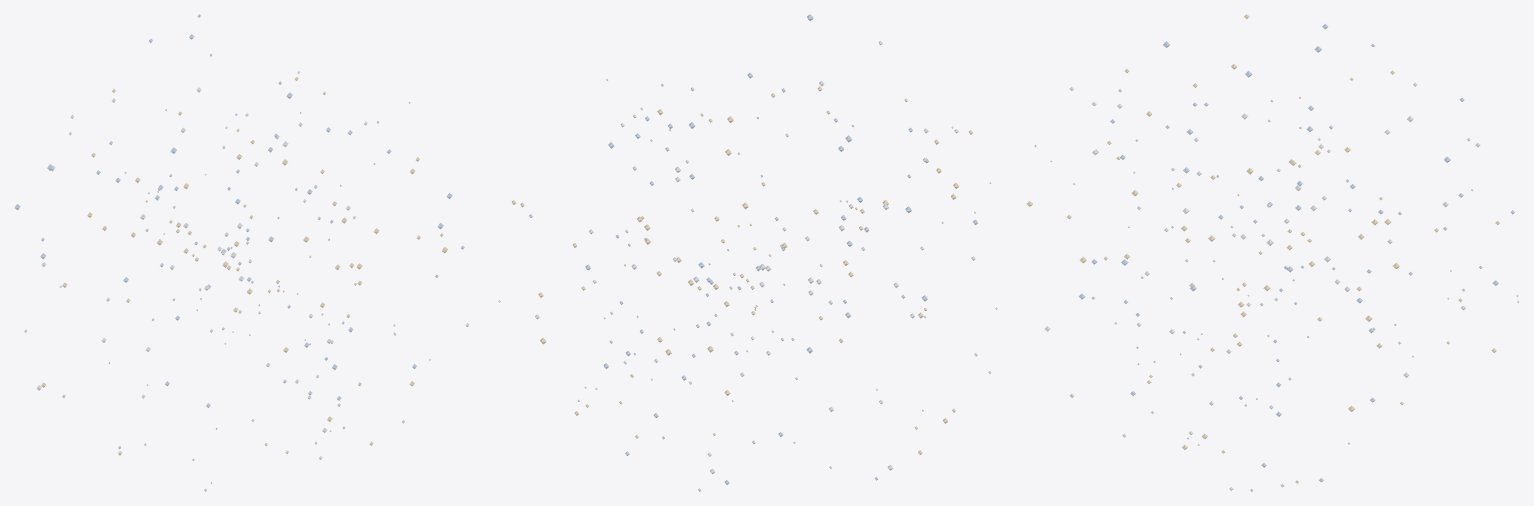
3 renders of one model, left to right at view 1: azimuth 30°, elevation 25°; view 2: azimuth 150°, elevation 25°; view 3: azimuth 270°, elevation 25°, orthographic. The views are drawn at different scales.
Bounding box in the file's own units: 4.98 × 4.77 × 4.96.
